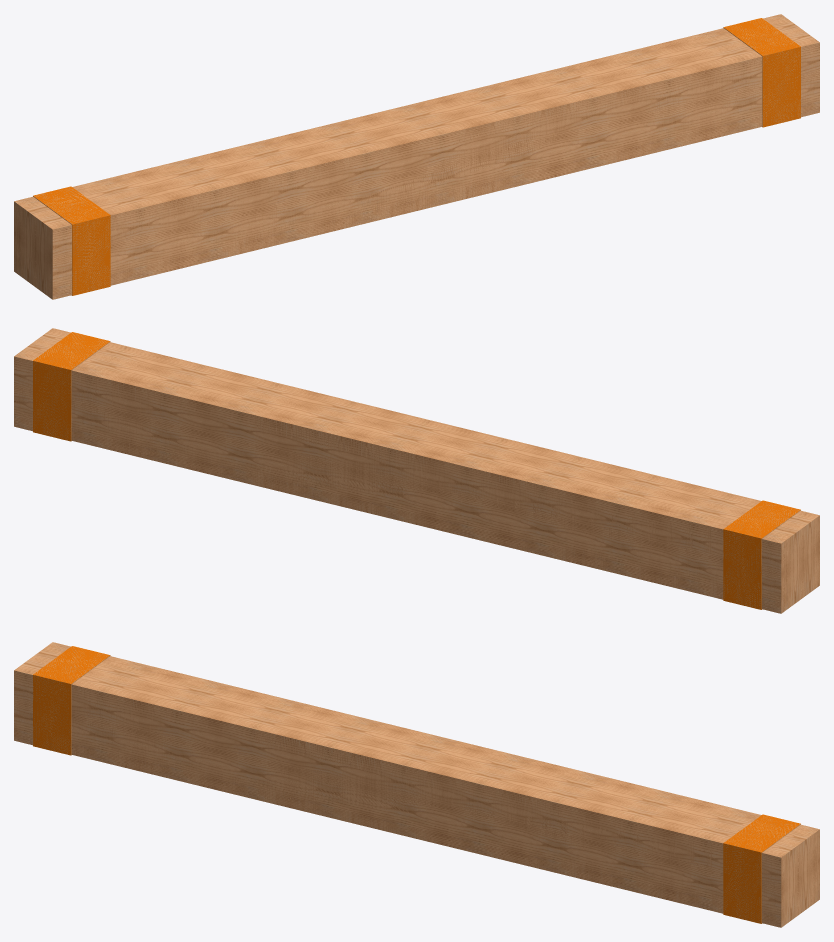
The picture shows the model from 3 angles, top to bottom: view 1: azimuth 30°, elevation 25°; view 2: azimuth 150°, elevation 25°; view 3: azimuth 330°, elevation 25°; orthographic projection.
Visible parts, largest first — view 1: SketchUp (×5); view 2: SketchUp (×5); view 3: SketchUp (×5).
Part boxes in pixels (x1,y1,x2,y2): SketchUp (×5): (14, 14, 819, 299); SketchUp (×5): (14, 328, 819, 613); SketchUp (×5): (14, 642, 819, 927).
Bounding box in the file's own units: 40 × 3.56 × 3.56.
2 materials, 1 textured.
